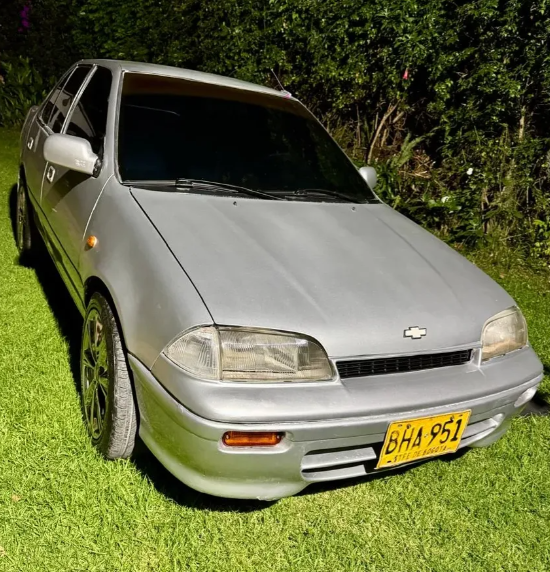placa: (370, 407, 473, 471)
